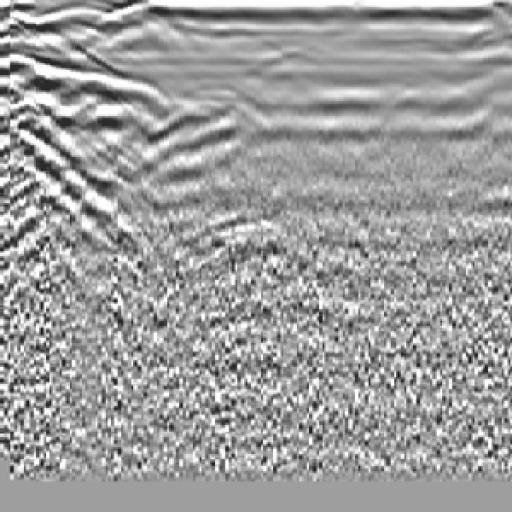non-metallic: (190, 199, 391, 357)
